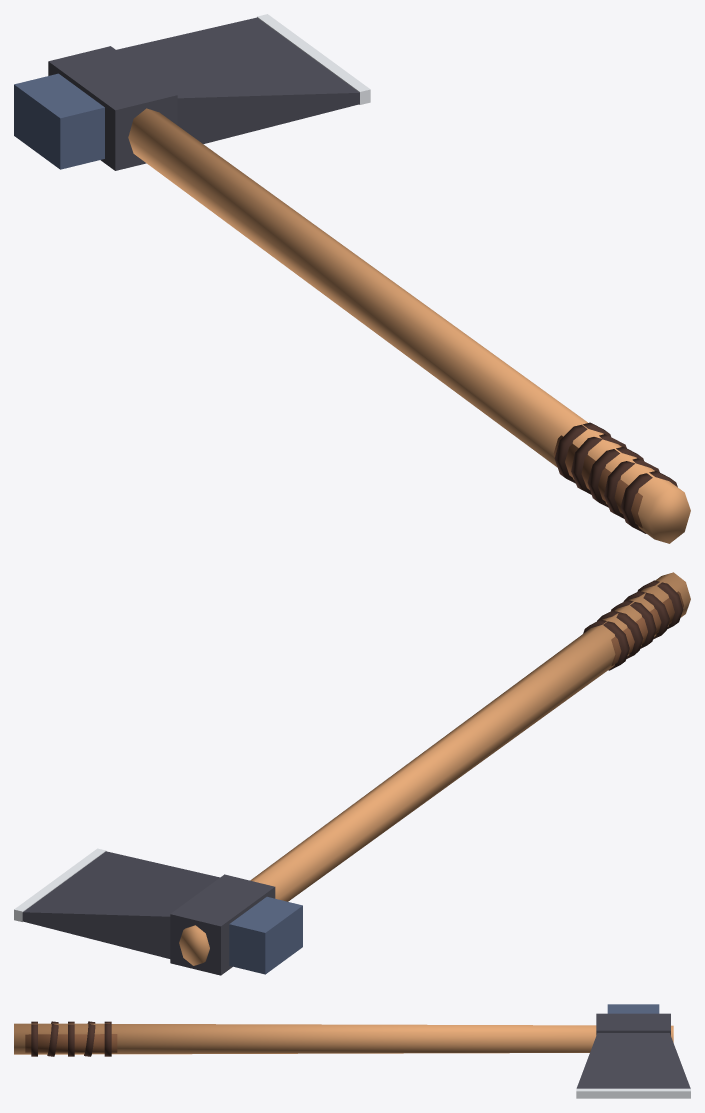
File: weapon_wood_axe.glb
3 views of the same model, one above another, from view 1: azimuth 30°, elevation 25°; view 2: azimuth 150°, elevation 25°; view 3: azimuth 270°, elevation 25° (orthographic). The views are drawn at different scales.
Parts seen in each view (by area): view 1: piece; view 2: piece; view 3: piece.
Boxes of the visible parts, bbox=[...] form: piece: bbox=[14, 14, 690, 543]; piece: bbox=[14, 572, 690, 975]; piece: bbox=[14, 1004, 690, 1098].
Bounding box in the file's own units: 0.316 × 0.065 × 1.18.
